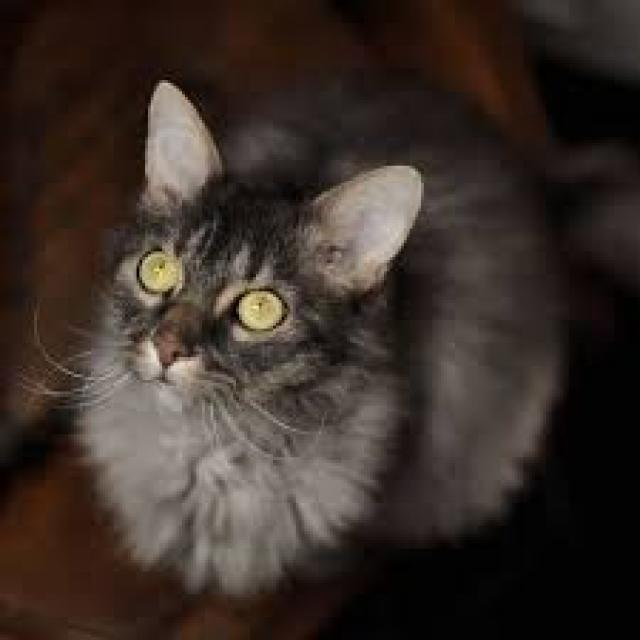Cat: (71, 69, 585, 602)
